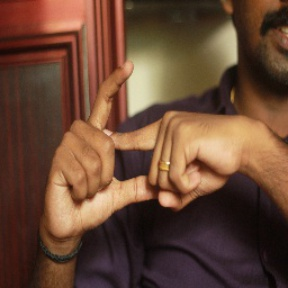E: (78, 54, 181, 217)
